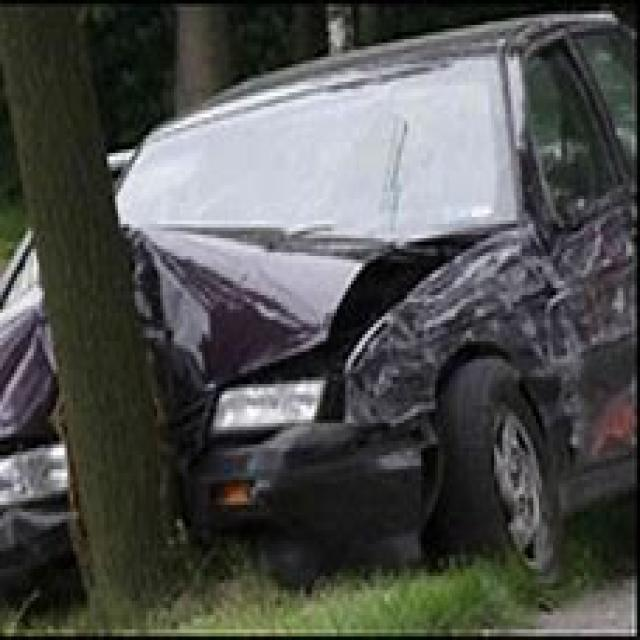single accident: (69, 51, 640, 640)
